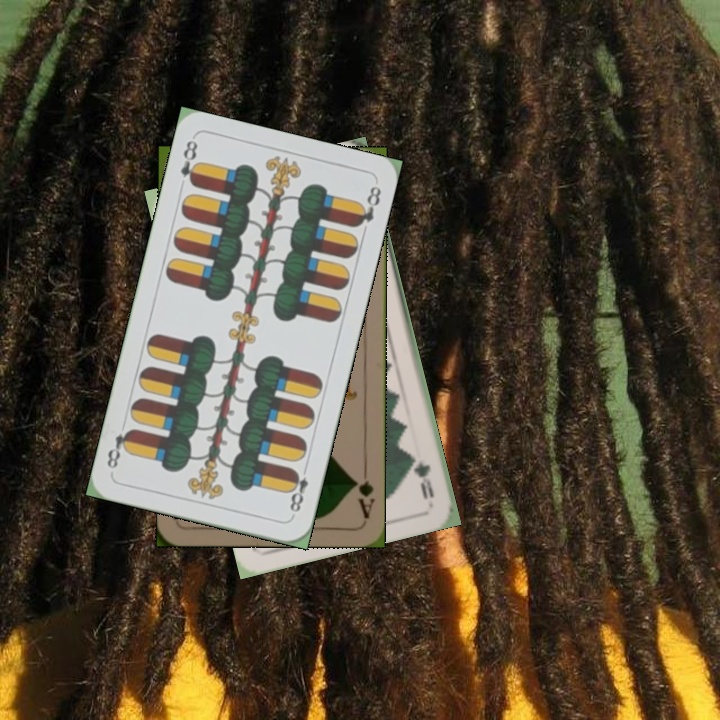E8: (284, 461, 311, 519), (176, 136, 202, 188)
G9: (408, 452, 437, 502)
GA: (349, 462, 377, 521)
